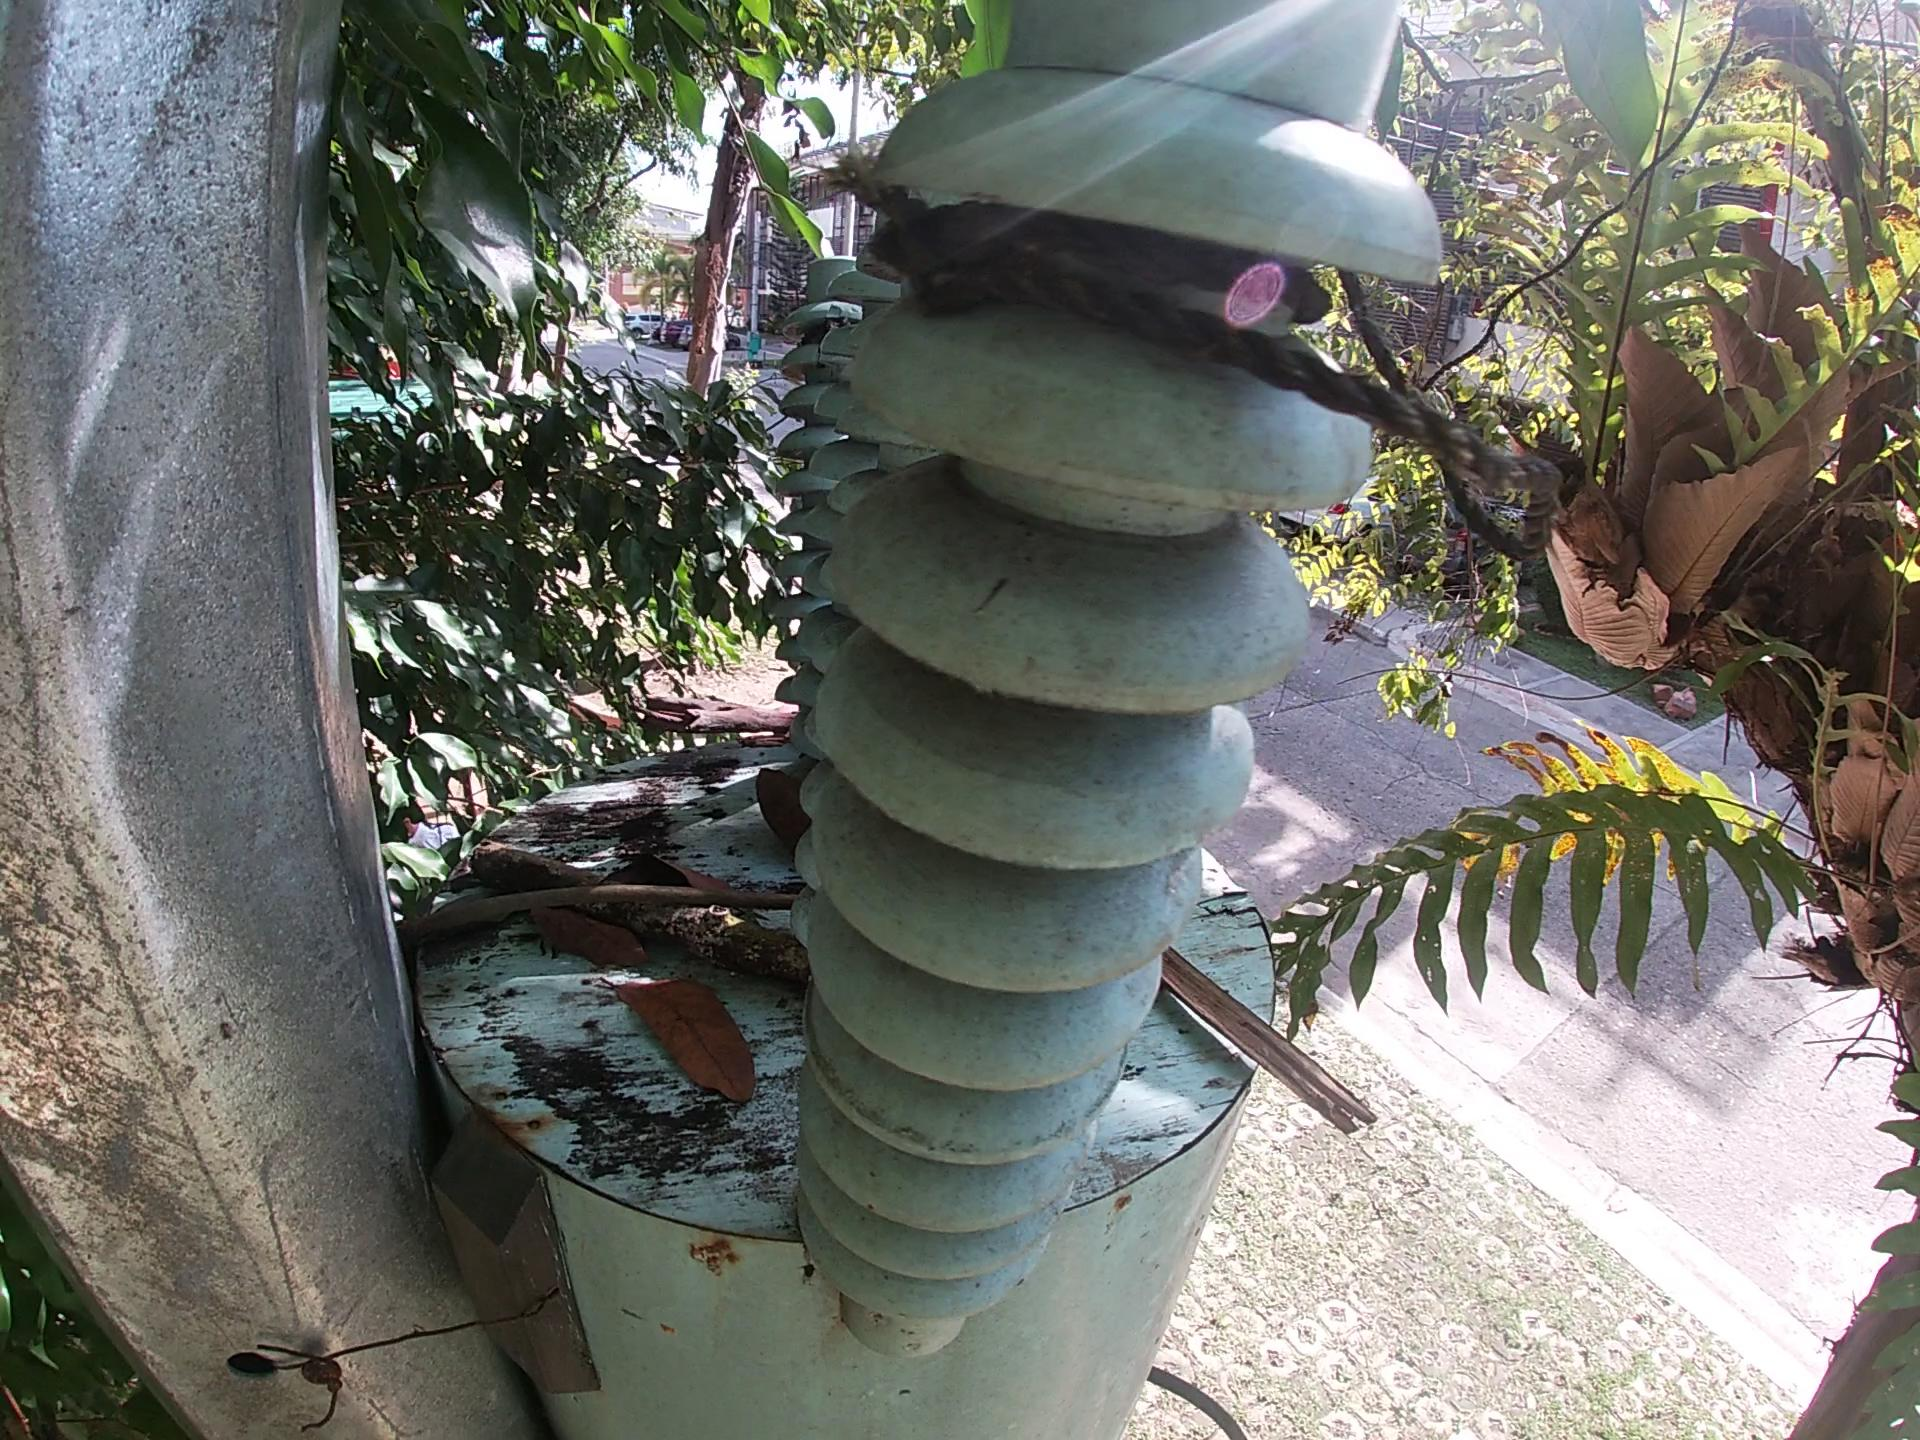leaf: (602, 979, 763, 1115), (519, 906, 649, 968), (602, 847, 720, 883)
mahogany fruit: (748, 765, 813, 861)
tree branch: (466, 835, 819, 986), (1154, 944, 1380, 1147), (389, 882, 804, 953), (627, 693, 801, 750)
